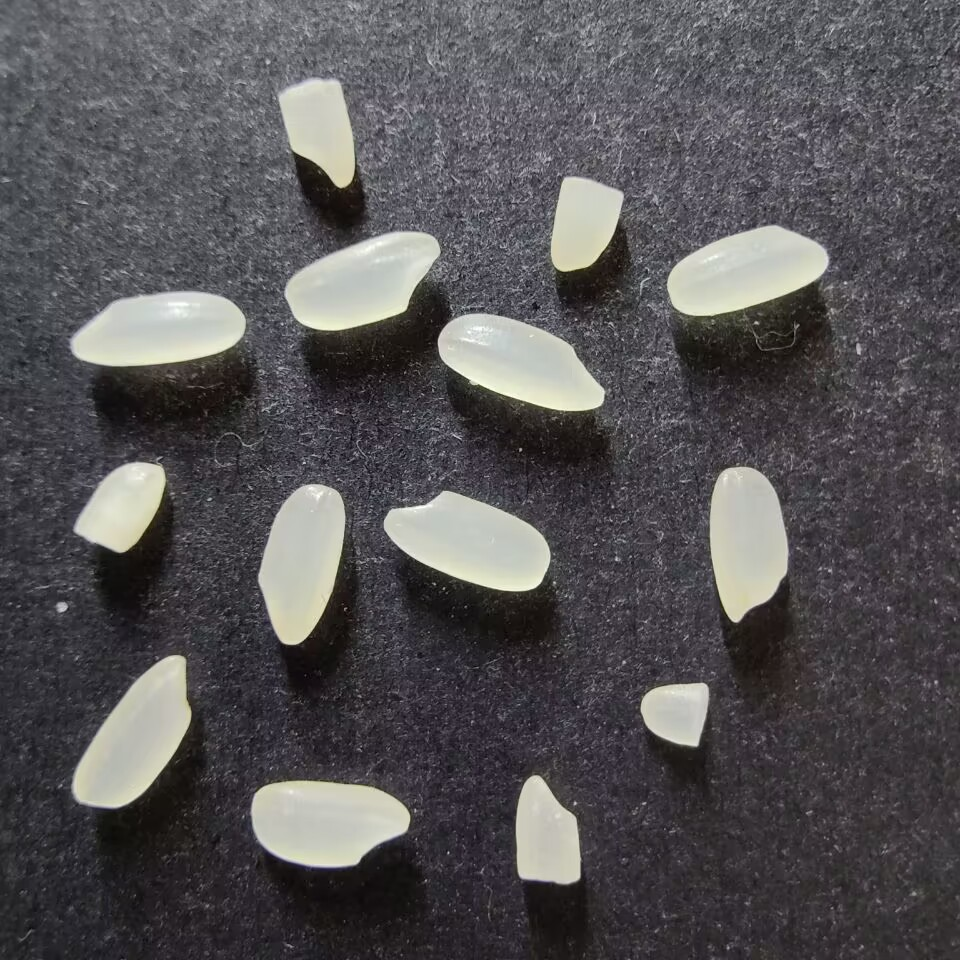broken: (278, 78, 355, 188), (514, 774, 581, 884), (550, 176, 623, 272), (640, 682, 709, 747)
rice: (71, 653, 192, 808), (382, 490, 550, 592), (436, 312, 604, 411), (283, 231, 440, 331), (666, 224, 828, 316), (257, 483, 345, 646), (250, 779, 410, 868), (69, 291, 246, 366), (708, 466, 788, 623)
